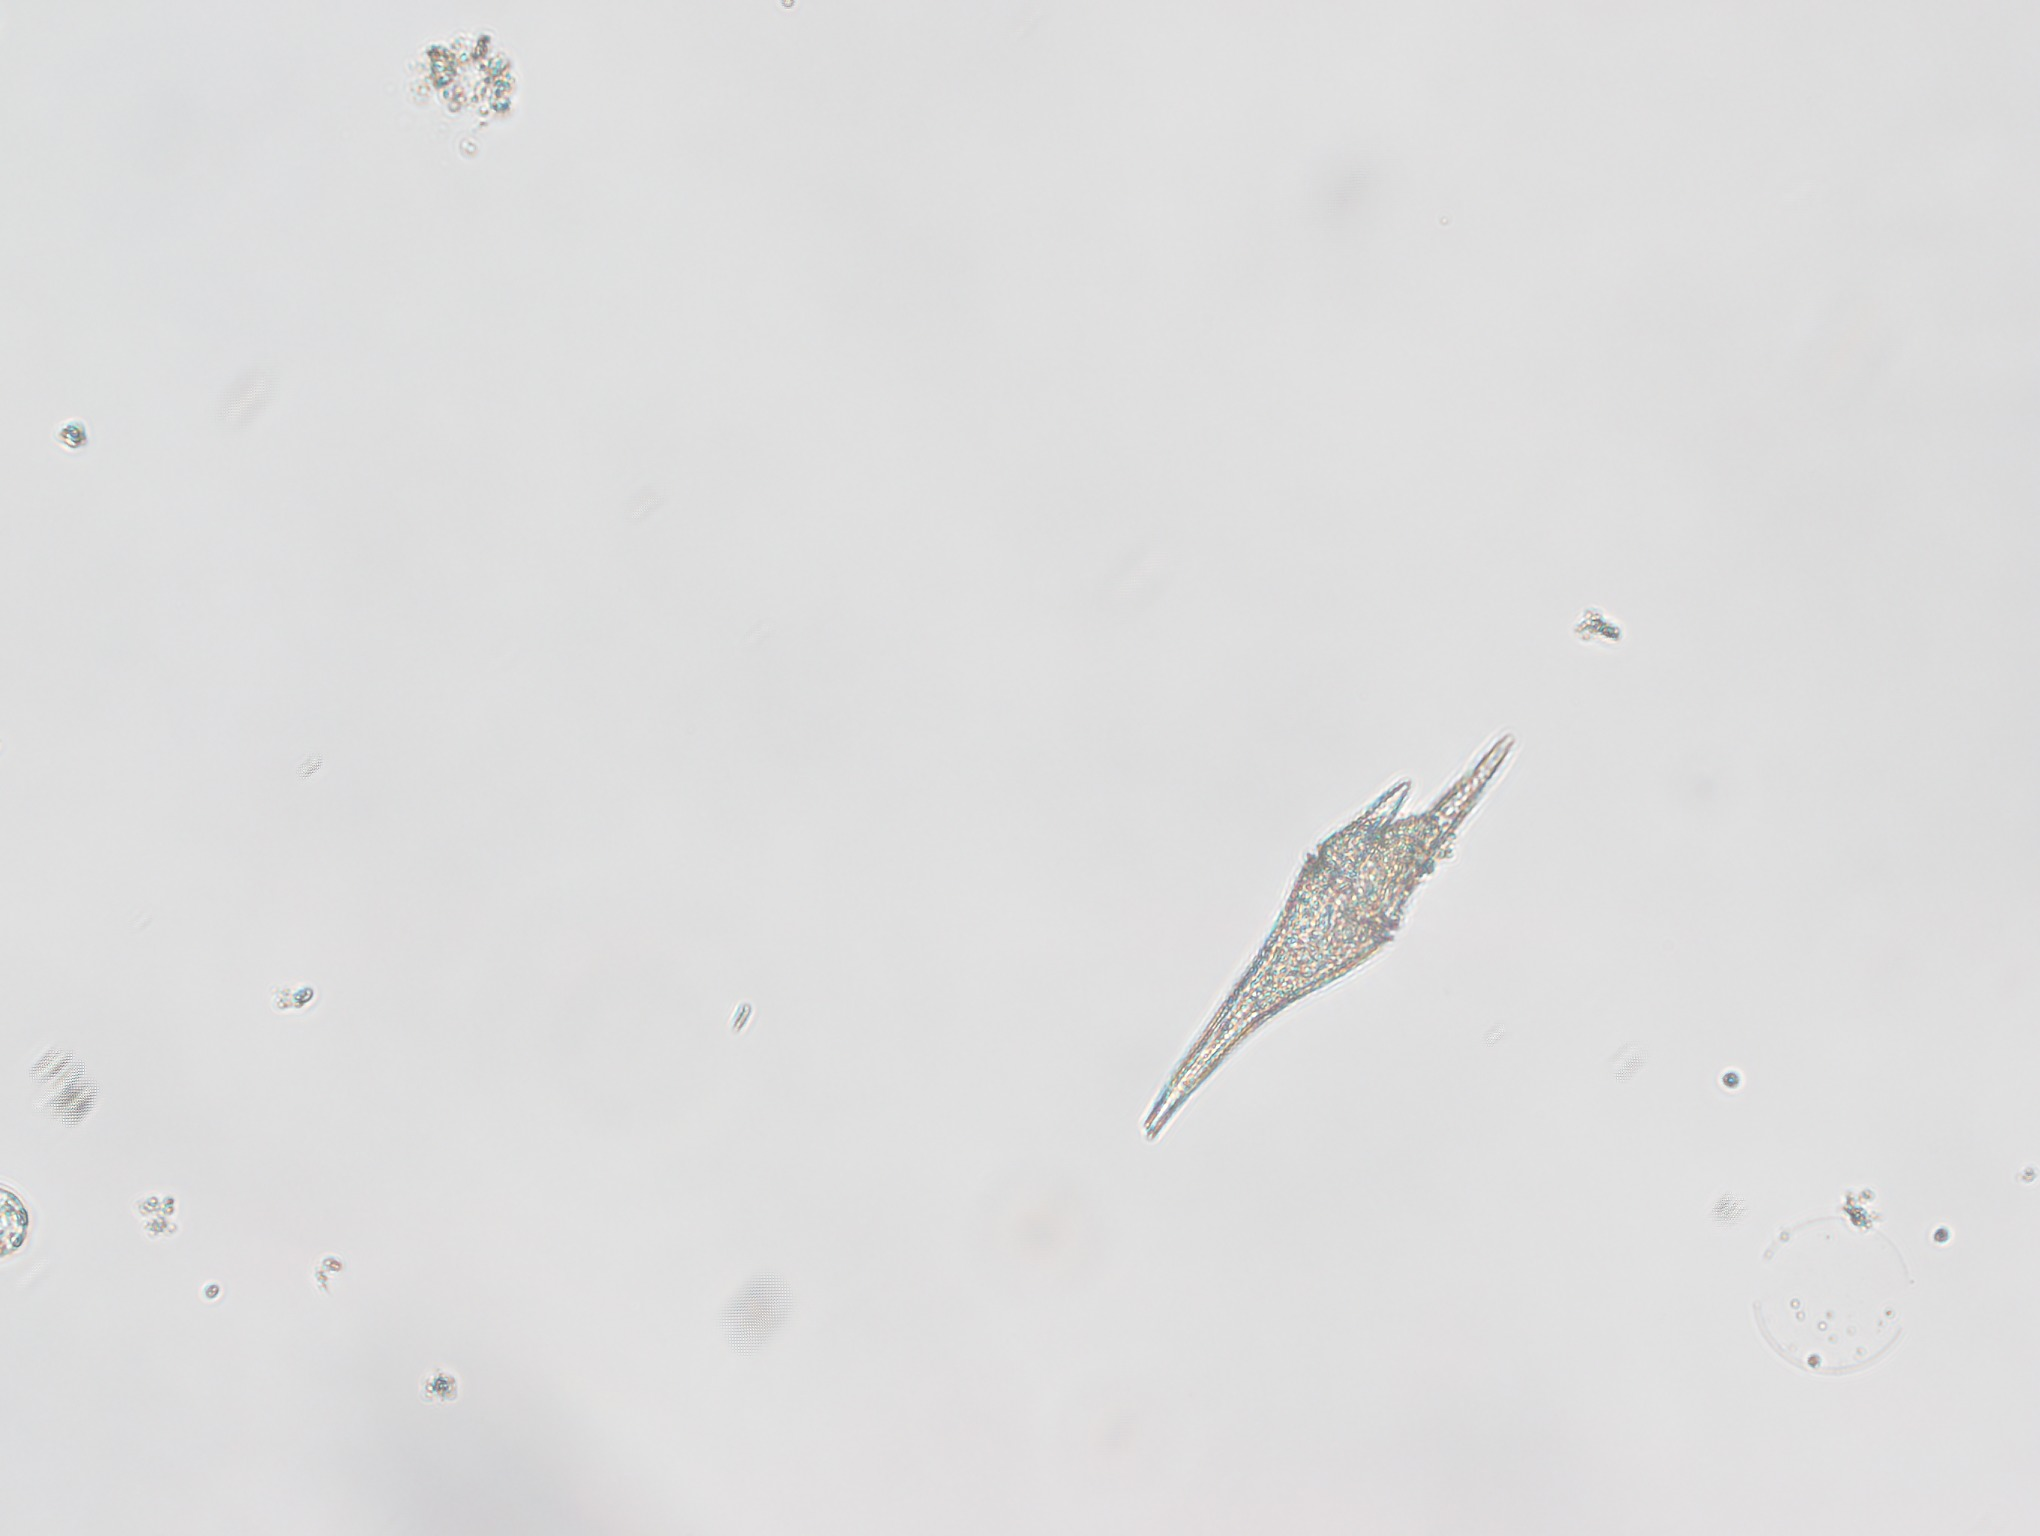ceratium furca: (1119, 699, 1543, 1157)
